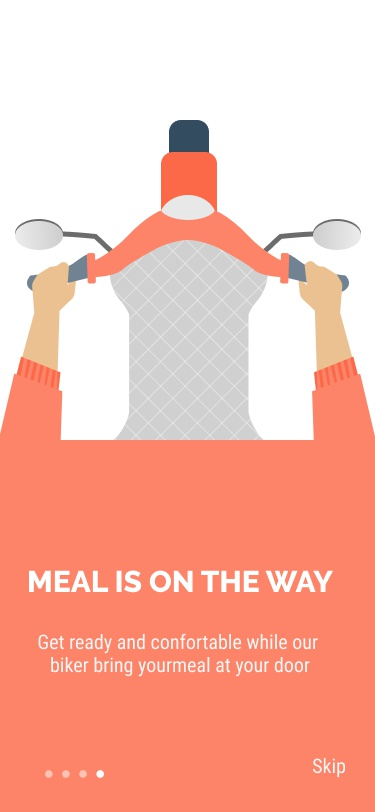Image: (1, 120, 375, 440)
PageIndicator: (45, 769, 106, 779)
Text: (38, 633, 319, 677), (29, 569, 333, 593), (312, 757, 346, 778)
